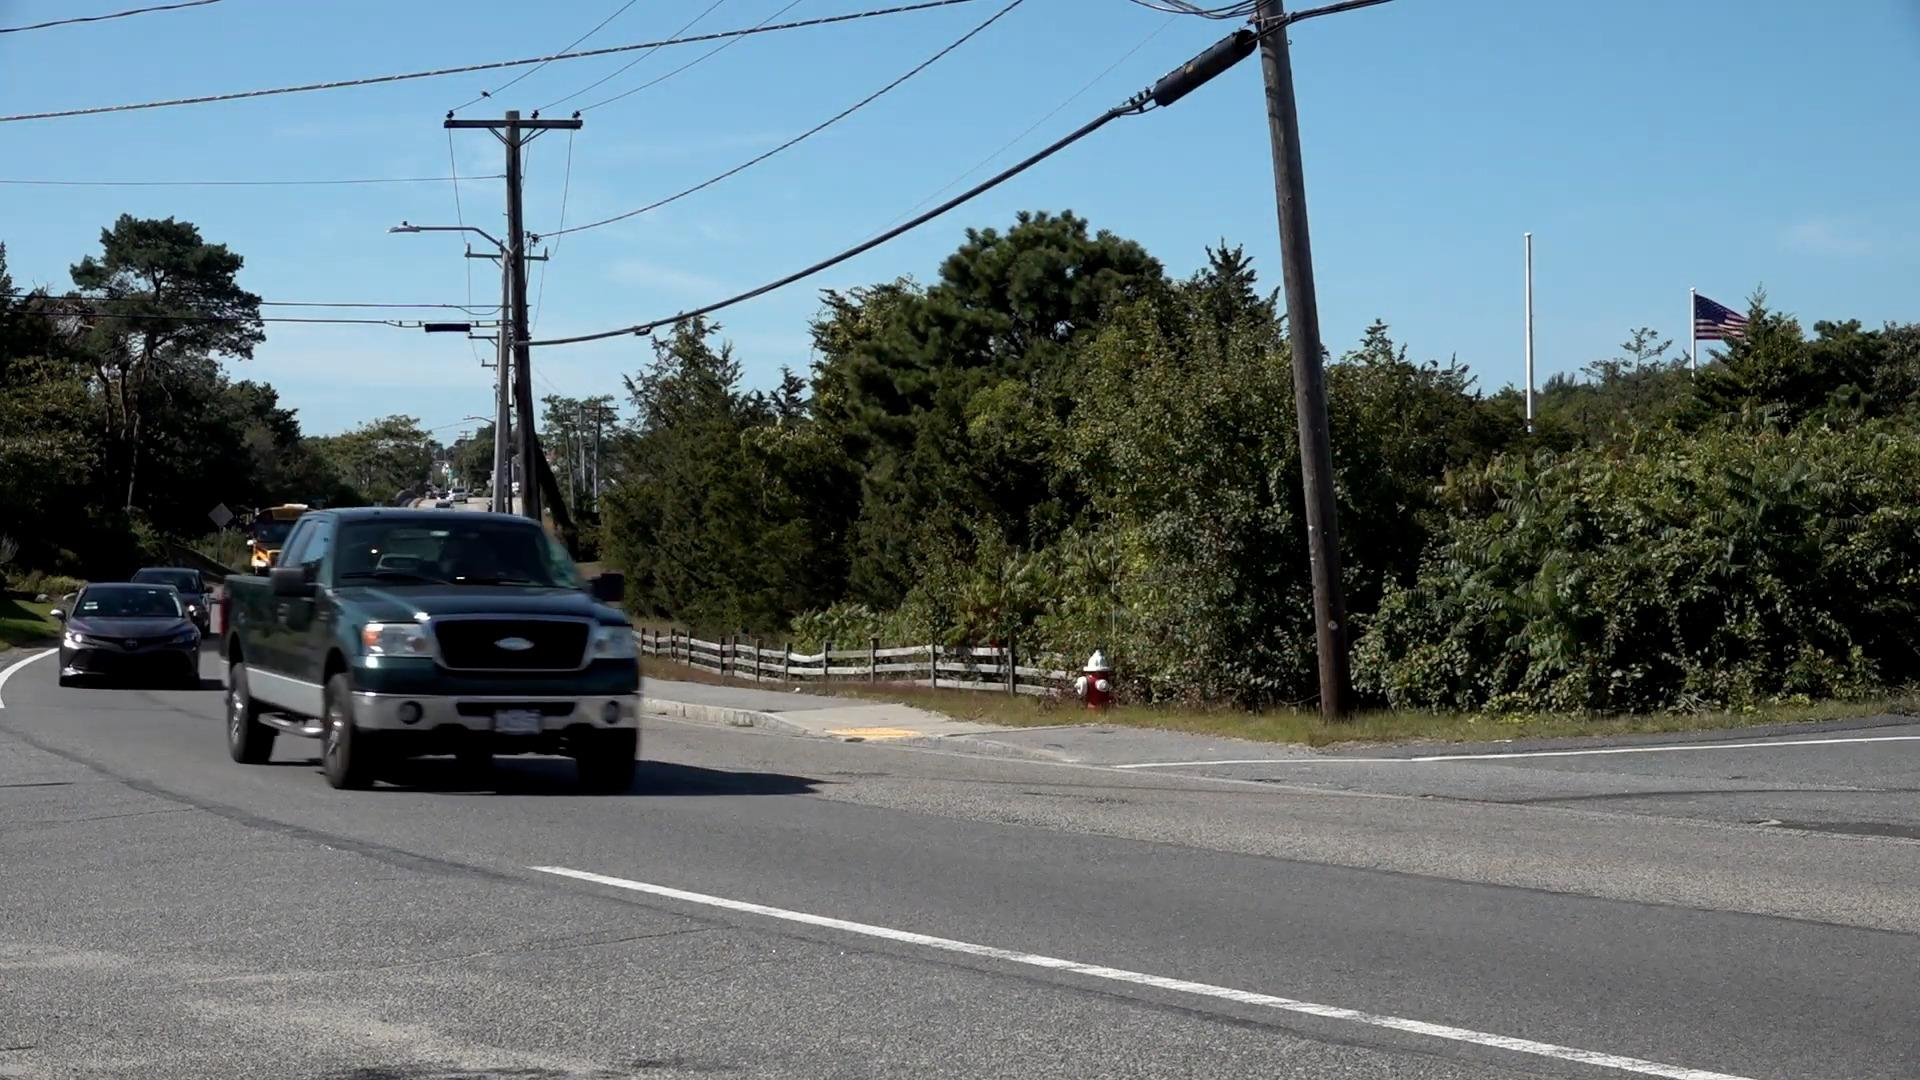pickup: (222, 505, 645, 791)
sedans: (53, 579, 203, 690)
